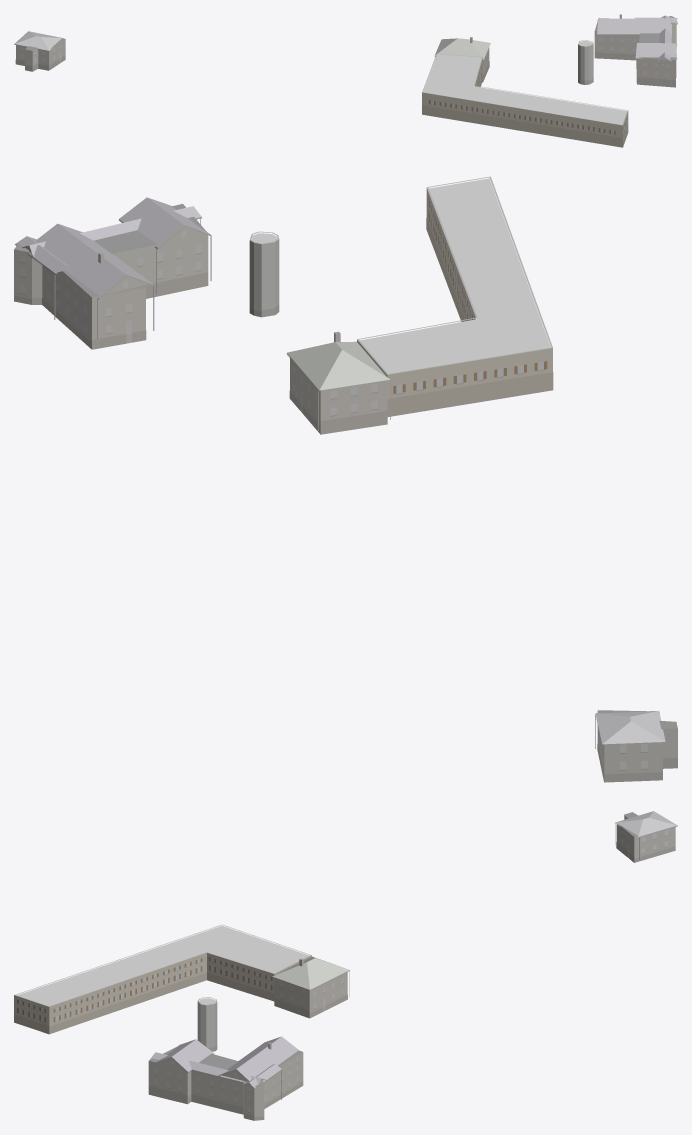
3 renders of one model, top to bottom at view 1: azimuth 30°, elevation 25°; view 2: azimuth 150°, elevation 25°; view 3: azimuth 270°, elevation 25°, orthographic. The views are drawn at different scales.
Parts seen in each view (by area): view 1: bld; view 2: bld; view 3: bld.
Boxes of the visible parts, x1=… form: bld: x1=14, y1=14, x2=677, y2=147; bld: x1=14, y1=176, x2=677, y2=782; bld: x1=14, y1=811, x2=677, y2=1120.
Bounding box in the file's own units: 164 × 17.98 × 151.
